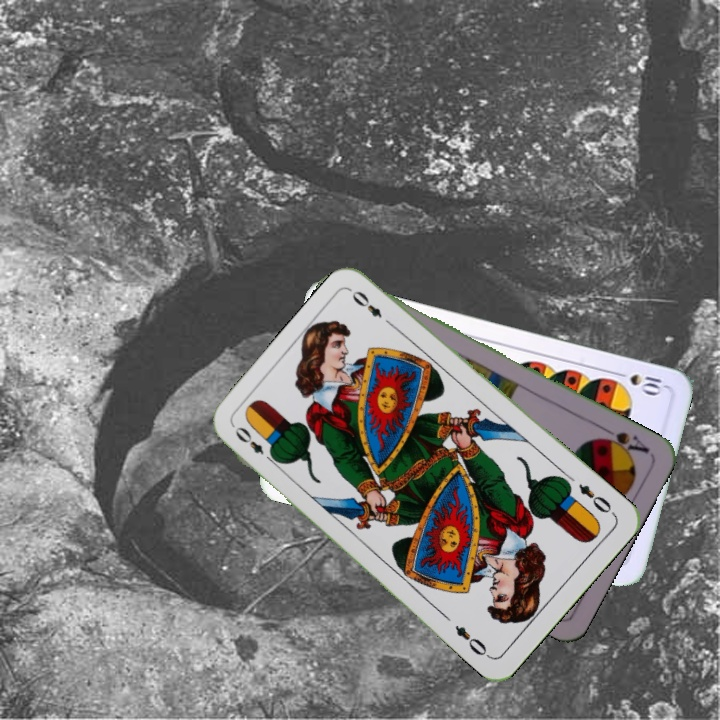EO: (231, 422, 280, 467), (574, 479, 614, 516)
S10: (610, 367, 668, 397)
SA: (594, 422, 652, 459)
